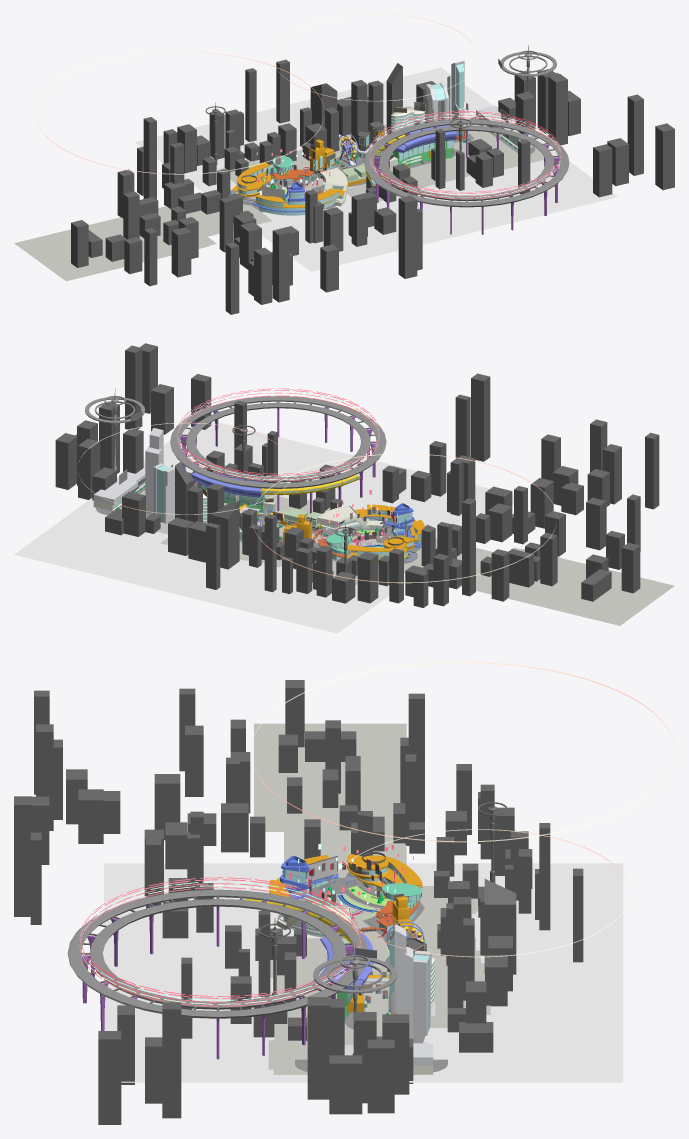
The model's file is jeemoo_13.gltf.
The picture shows the model from 3 angles, top to bottom: view 1: azimuth 30°, elevation 25°; view 2: azimuth 150°, elevation 25°; view 3: azimuth 270°, elevation 25°; orthographic projection. The views are drawn at different scales.
Visible parts, largest first — view 1: background_buildng_2067, 平面.002, Object509, world_ground layer, light ring_autorotate, 06 arch_1, world_glass_uv2, 圆环.001, Object468, world_glass_uv2.001, 06 arch_1.001, 10 arch_3.001 (+8 smaller); view 2: background_buildng_2067, 平面.002, world_ground layer, Object509, 06 arch_1, light ring_autorotate, 圆环.001, world_glass_uv2, Object468, 07 arch_2.001, 06 arch_1.001, 10 arch_3.001 (+4 smaller); view 3: background_buildng_2067, 平面.002, Object509, world_ground layer, light ring_autorotate, 06 arch_1, Square_BasicGround_uv2, 圆环.001, Object468, 10 arch_3.001, world_ground layer.004, 06 arch_1.001 (+4 smaller).
Boxes of the visible parts, bbox=[...] form: background_buildng_2067: bbox=[71, 59, 674, 314]; 平面.002: bbox=[135, 67, 617, 271]; Object509: bbox=[14, 124, 543, 281]; world_ground layer: bbox=[306, 116, 569, 207]; light ring_autorotate: bbox=[369, 111, 561, 199]; 06 arch_1: bbox=[341, 60, 535, 165]; world_glass_uv2: bbox=[313, 63, 517, 184]; 圆环.001: bbox=[35, 14, 478, 174]; Object468: bbox=[302, 124, 559, 234]; world_glass_uv2.001: bbox=[237, 169, 343, 215]; 06 arch_1.001: bbox=[231, 162, 345, 207]; 10 arch_3.001: bbox=[500, 45, 556, 92]; background_buildng_2067: bbox=[55, 343, 659, 607]; 平面.002: bbox=[14, 421, 513, 633]; world_ground layer: bbox=[96, 396, 386, 547]; Object509: bbox=[119, 490, 674, 625]; 06 arch_1: bbox=[93, 428, 266, 534]; light ring_autorotate: bbox=[177, 388, 379, 481]; 圆环.001: bbox=[78, 422, 556, 583]; world_glass_uv2: bbox=[113, 465, 360, 539]; Object468: bbox=[180, 402, 376, 543]; 07 arch_2.001: bbox=[317, 505, 387, 558]; 06 arch_1.001: bbox=[346, 504, 424, 562]; 10 arch_3.001: bbox=[85, 388, 145, 470]; background_buildng_2067: bbox=[14, 680, 583, 1124]; 平面.002: bbox=[104, 863, 623, 1082]; Object509: bbox=[254, 723, 490, 1074]; world_ground layer: bbox=[67, 889, 447, 1074]; light ring_autorotate: bbox=[79, 877, 360, 1006]; 06 arch_1: bbox=[344, 924, 435, 1064]; Square_BasicGround_uv2: bbox=[265, 827, 481, 1069]; 圆环.001: bbox=[250, 662, 674, 957]; Object468: bbox=[82, 897, 417, 1059]; 10 arch_3.001: bbox=[313, 943, 396, 1055]; world_ground layer.004: bbox=[277, 876, 424, 937]; 06 arch_1.001: bbox=[269, 855, 422, 917].
Size of what is drawn, in the model's own units: 1388 by 227 by 976.
Materials: 63 (6 with a texture image).
